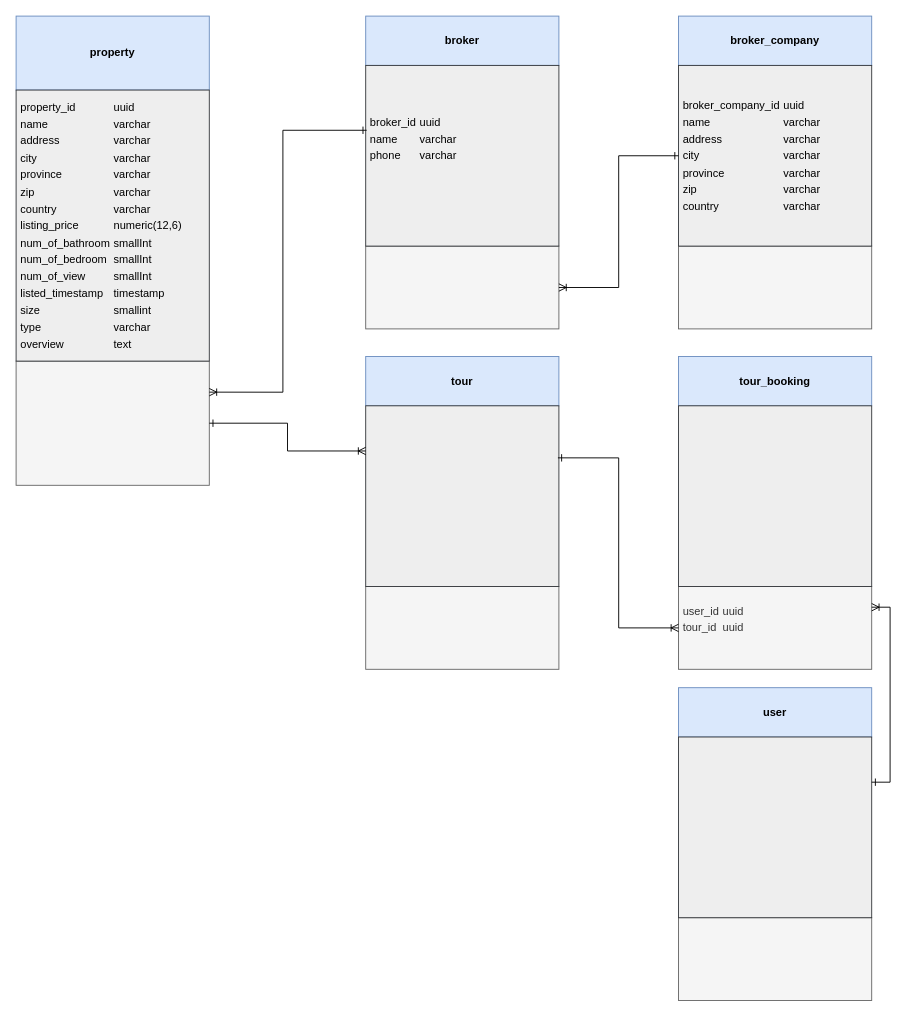
The diagram is 914 pixels wide and 1017 high, and some of its shapes have lost their labels. Each missing label, with the centre of its shape:
"broker_comapny_id uuid" goes at [462,287].
"broker_id uuid tour_id uuid" goes at [112,422].
"tour_booking_id uuid" goes at [775,495].
"tour_id uuid tour_timestamp timestamp quota smallInt" goes at [462,495].
"user_id uuid email varchar username varchar phone varchar access_right varchar" goes at [775,827].
